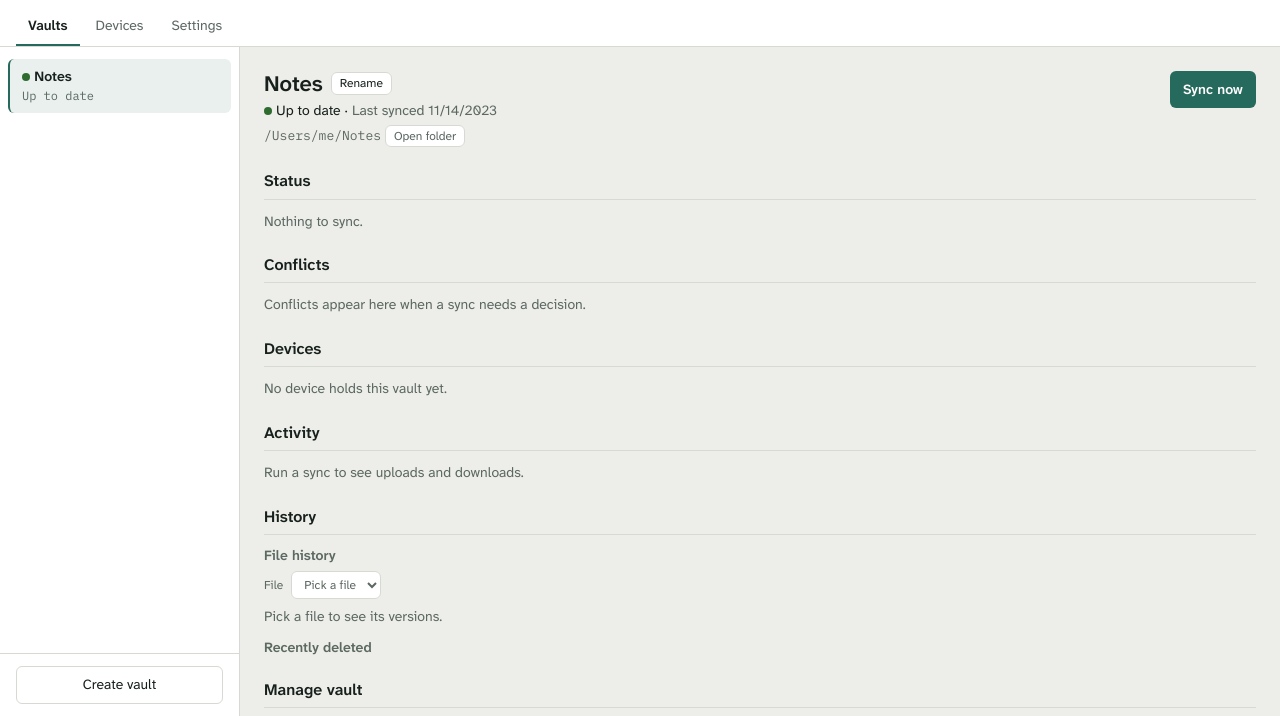
the vault page (spec §15.2) › renames the vault in place and re-reads the list
expect the heading "Notes" is shown: met, box x1=264 y1=71 x2=323 y2=97
Step 1. Click the button with test id "renameVaultButton" → (361, 84), box x1=331 y1=72 x2=392 y2=95
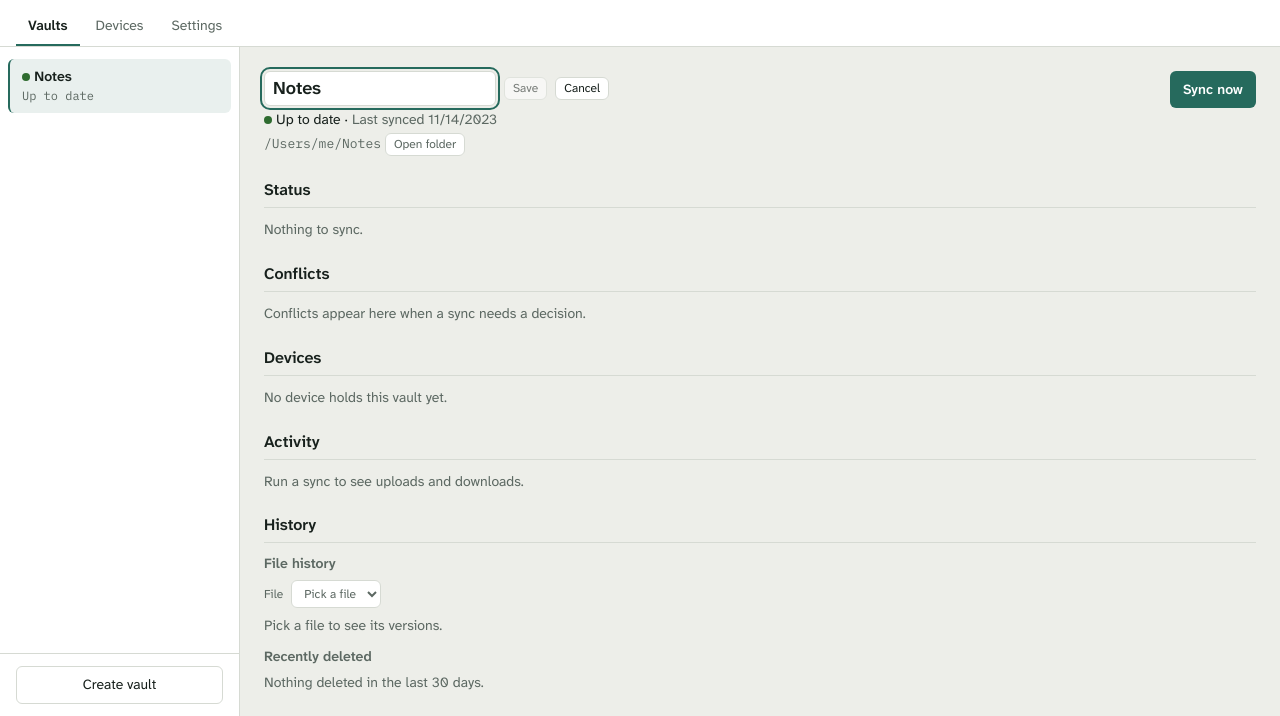
Step 2. Replace the text in the field with test id "renameVaultField" with "Journal" → (380, 88), box x1=264 y1=71 x2=496 y2=106
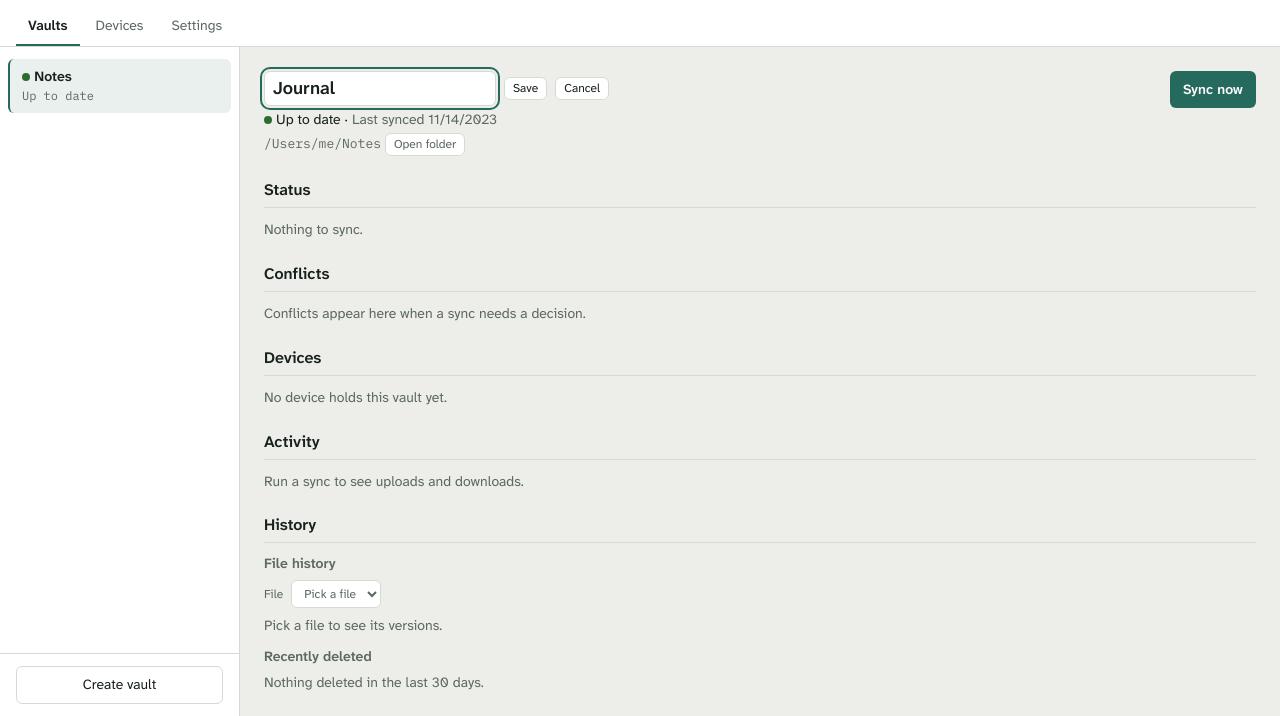
Step 3. Click the button with test id "renameVaultButton" → (526, 88), box x1=504 y1=77 x2=547 y2=100
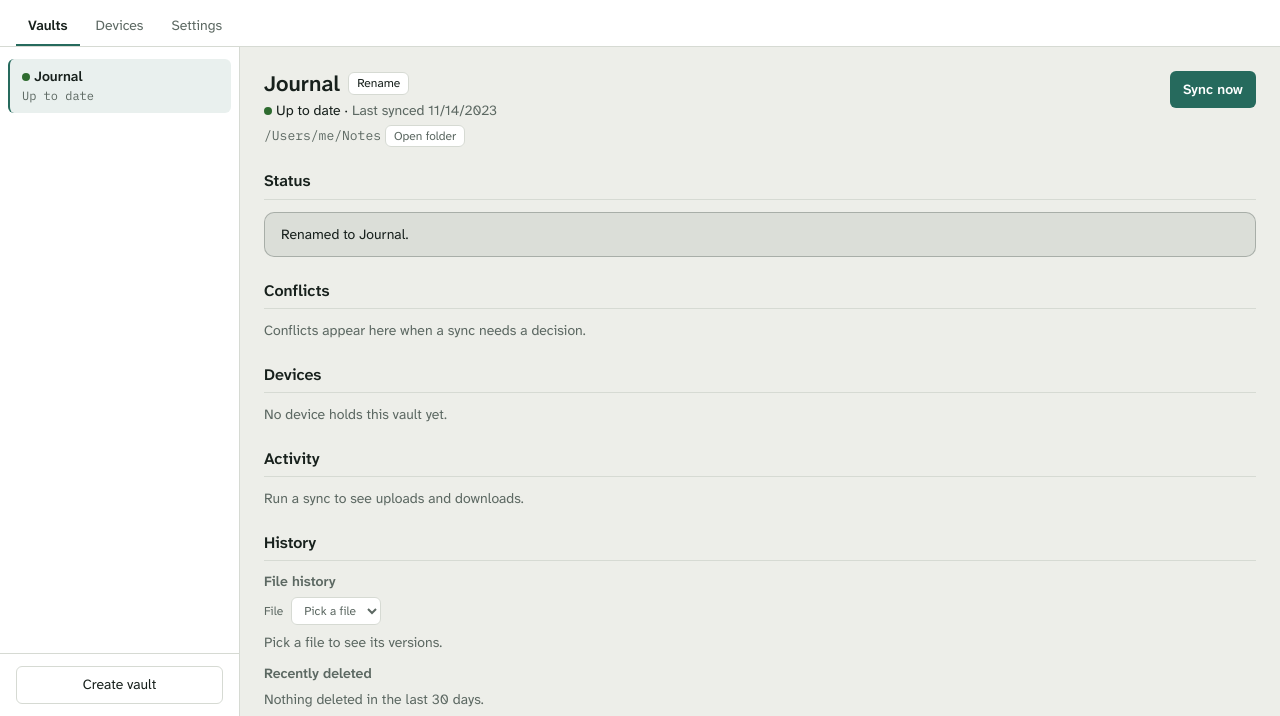
expect the text "Renamed to Journal." is shown: met, box x1=264 y1=212 x2=1256 y2=257
expect the heading "Journal" is shown: met, box x1=264 y1=71 x2=340 y2=97
